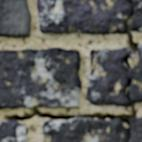brick: (0, 48, 80, 108), (0, 0, 30, 37), (0, 121, 26, 141)
broken_brick: (36, 0, 130, 35), (85, 46, 128, 107), (41, 119, 122, 141), (129, 42, 141, 103), (131, 0, 141, 32), (130, 115, 141, 141)
crack: (2, 0, 139, 141), (16, 48, 66, 93), (39, 15, 41, 24)
